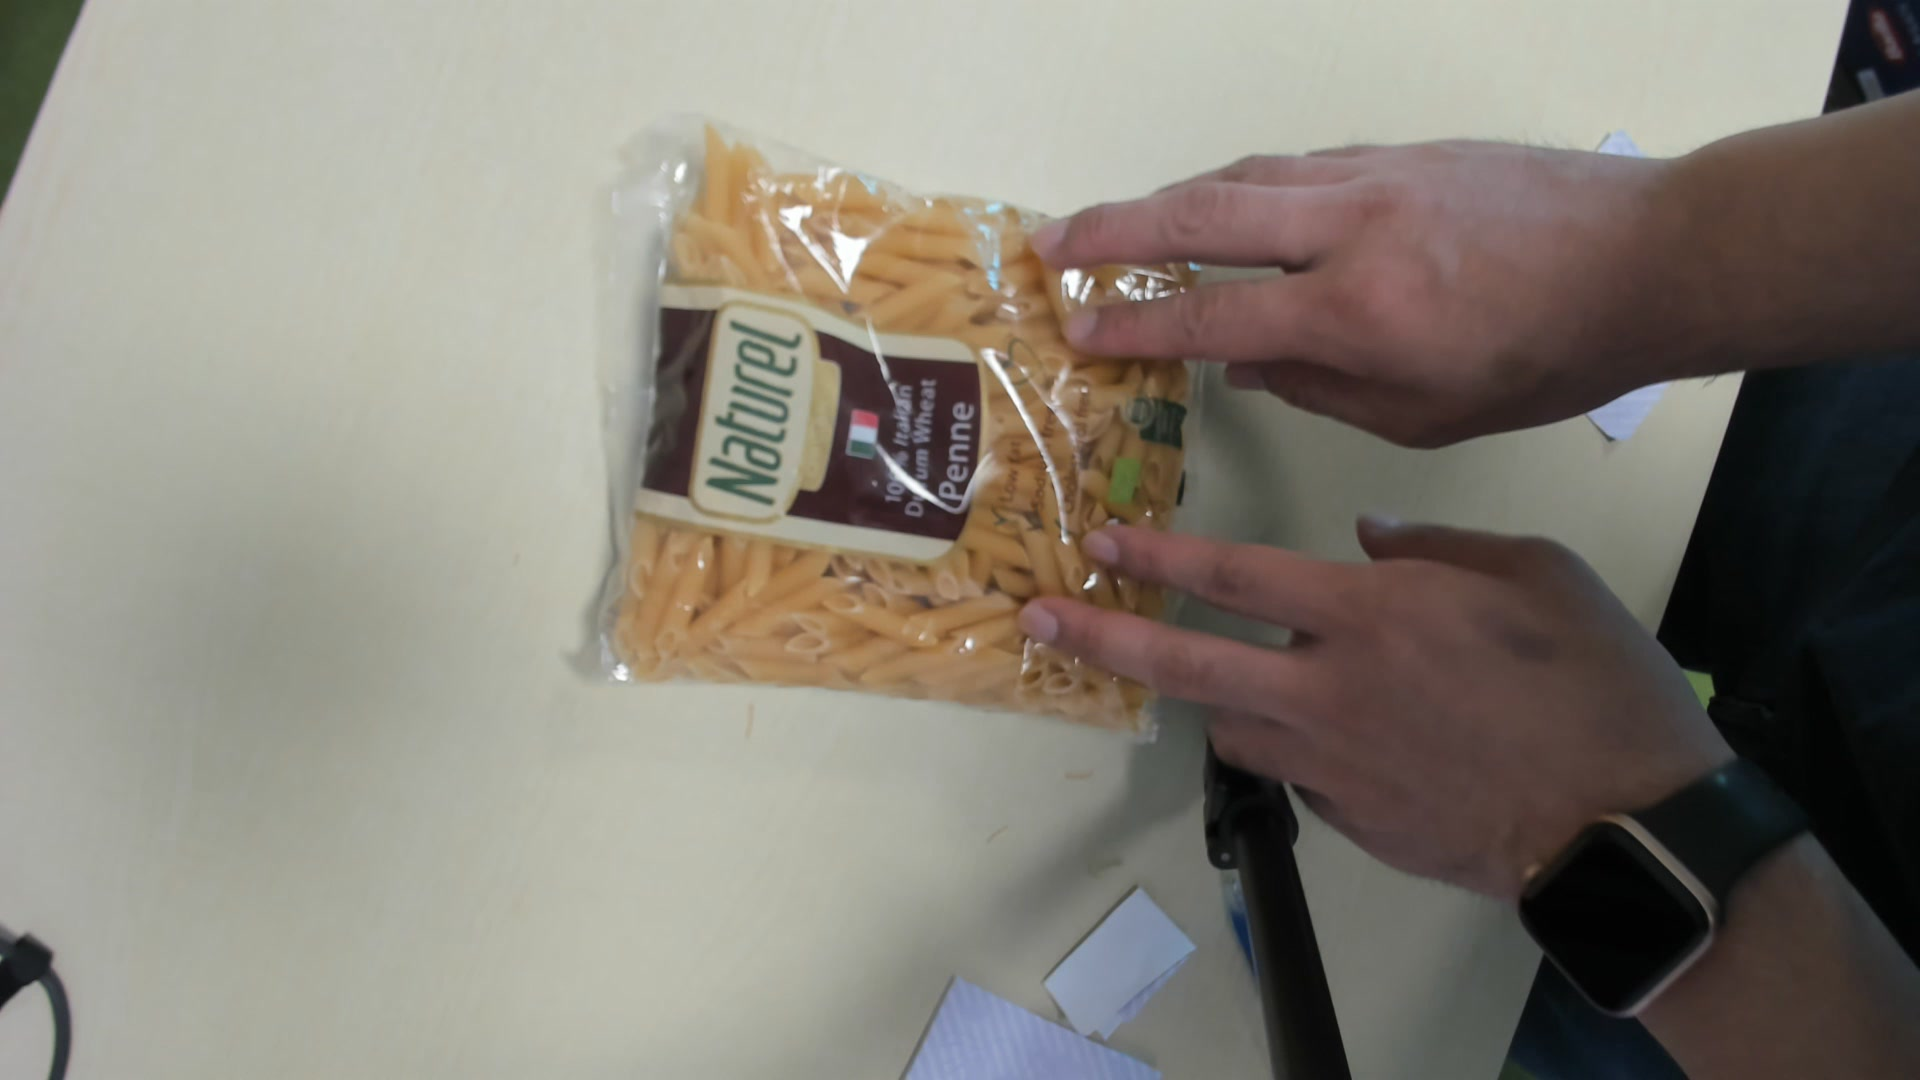Pasta_500-599g_Halal_NonHealthy: (588, 149, 1204, 738)
